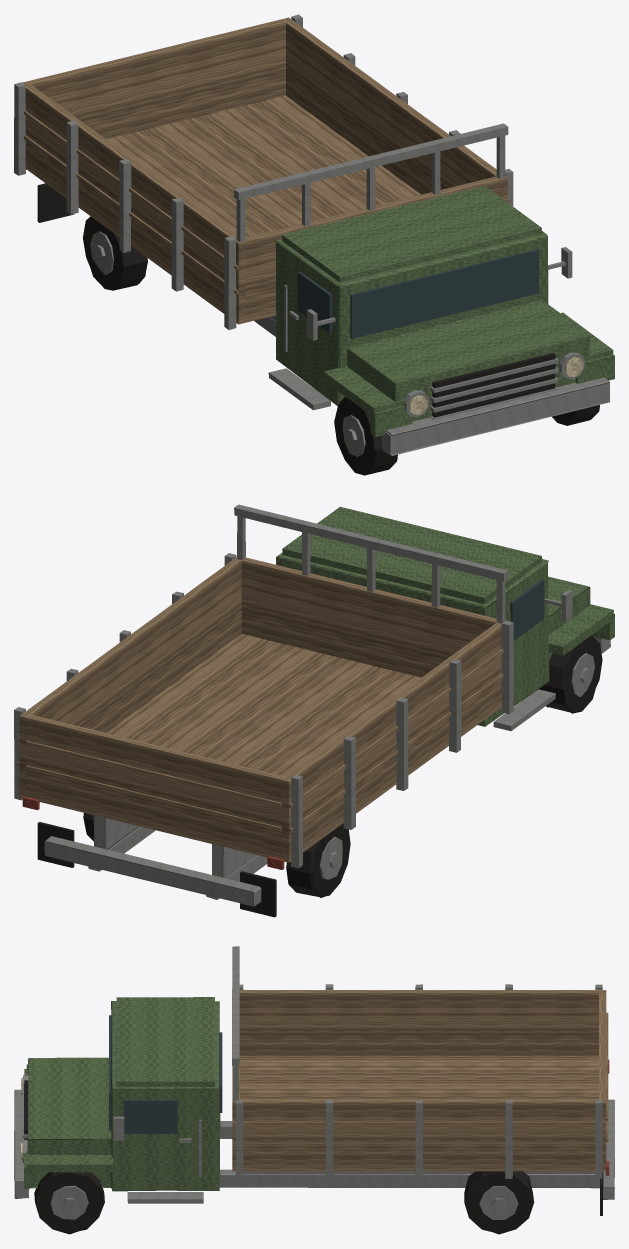
File: farm_flatbed.glb
3 renders of one model, top to bottom at view 1: azimuth 30°, elevation 25°; view 2: azimuth 150°, elevation 25°; view 3: azimuth 270°, elevation 25°, orthographic. The views are drawn at different scales.
Visible parts, largest first — view 1: FarmFlatbed; view 2: FarmFlatbed; view 3: FarmFlatbed.
Part boxes in pixels (left/top/right/bottom): FarmFlatbed: left=14, top=14, right=614, bottom=475; FarmFlatbed: left=14, top=504, right=614, bottom=917; FarmFlatbed: left=14, top=946, right=614, bottom=1234.
Bounding box in the file's own units: 3.2 × 2.32 × 6.84.
7 materials, 5 textured.
